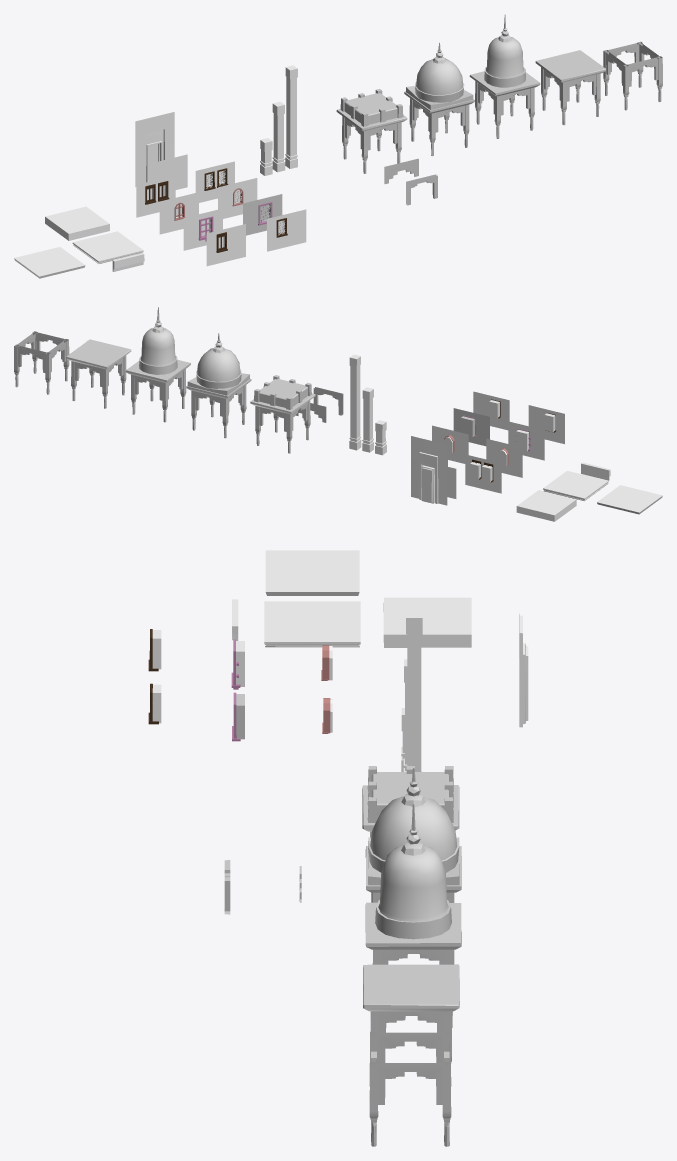
The model's file is Structs_LOD.fbx.
3 renders of one model, top to bottom at view 1: azimuth 30°, elevation 25°; view 2: azimuth 150°, elevation 25°; view 3: azimuth 270°, elevation 25°, orthographic. The views are drawn at different scales.
Parts seen in each view (by area): view 1: Top_Struct_02.001, Top_Struct_01.002, DetailsTop_Struct_02.001, DetailsTop_Struct_02.004, Struct_02.008, Border_02.009, Border_02.017, Border_02.018, Border_02.023, Border_02.011, Border_02.025, Border_02.014 (+12 smaller); view 2: Top_Struct_02.001, Top_Struct_01.002, DetailsTop_Struct_02.001, Struct_02.008, DetailsTop_Struct_02.004, Border_02.009, Border_02.017, Border_02.018, Border_02.021, Border_02.011, Border_02.022, Struct_02.006 (+9 smaller); view 3: Top_Struct_01.002, DetailsTop_Struct_02.004, Top_Struct_02.001, Border_02.018, Border_02.011, Border_02.009, Border_02.017, DetailsTop_Struct_02.001, Border_02.022, Struct_02.008.
Part boxes in pixels (x1,y1,x2,y2): Top_Struct_02.001: (404,42,474,155); Top_Struct_01.002: (469,14,540,138); DetailsTop_Struct_02.001: (336,89,407,173); DetailsTop_Struct_02.004: (535,50,605,125); Struct_02.008: (135,112,174,187); Border_02.009: (603,41,662,110); Border_02.017: (45,206,109,240); Border_02.018: (72,231,143,263); Border_02.023: (206,224,245,266); Border_02.011: (14,247,85,278); Border_02.025: (267,209,306,251); Border_02.014: (159,192,198,234); Top_Struct_02.001: (186,333,251,438); Top_Struct_01.002: (125,307,190,422); DetailsTop_Struct_02.001: (250,375,315,453); Struct_02.008: (411,436,447,505); DetailsTop_Struct_02.004: (66,339,131,408); Border_02.009: (14,331,69,394); Border_02.017: (516,490,576,521); Border_02.018: (543,471,608,500); Border_02.021: (465,454,501,493); Border_02.011: (597,485,662,514); Border_02.022: (349,354,361,450); Struct_02.006: (508,421,544,460); Top_Struct_01.002: (365,804,461,1027); DetailsTop_Struct_02.004: (363,964,459,1063); Top_Struct_02.001: (365,767,461,902); Border_02.018: (264,601,360,647); Border_02.011: (265,550,359,595); Border_02.009: (369,1031,451,1146); Border_02.017: (383,597,471,647); DetailsTop_Struct_02.001: (362,766,459,902); Border_02.022: (405,611,422,771); Struct_02.008: (519,614,528,727).
Size of the model in its own units: 6207 by 1069 by 1695.
